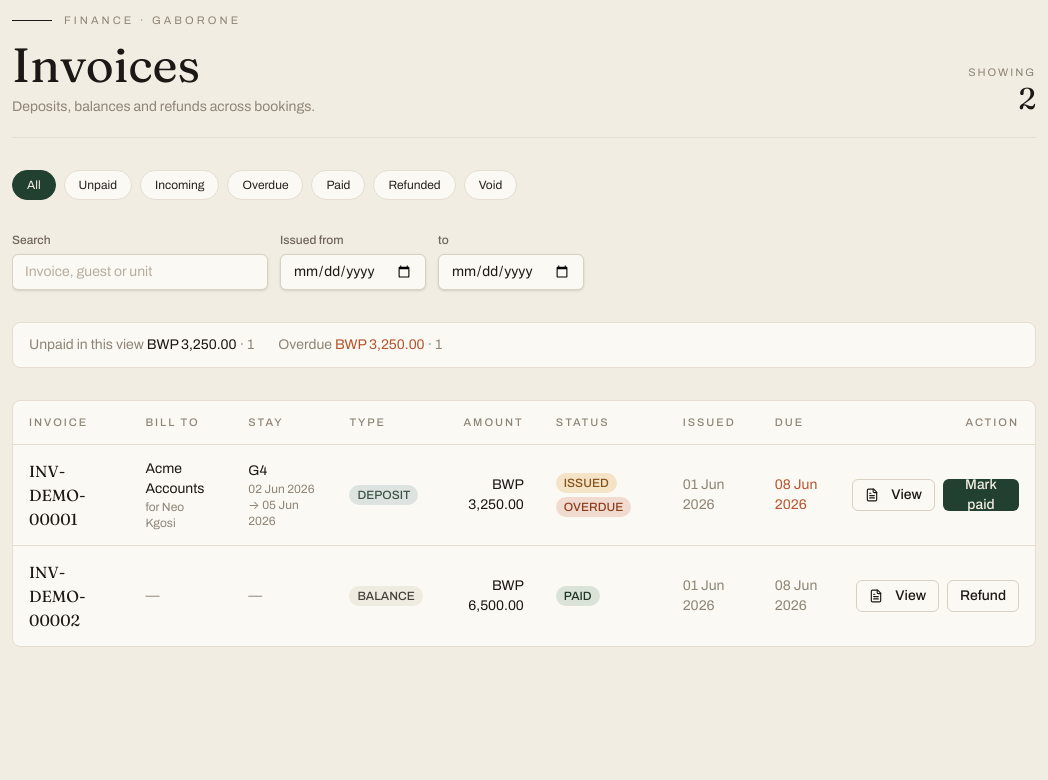
InvoicesPage › does not send a backwards date range, and says why
The image size is (1048, 780).
Type "2026-07-01" into the date field labelled "Issued from".
click(353, 272); type("2026-07-01")  # box x1=280 y1=254 x2=426 y2=290
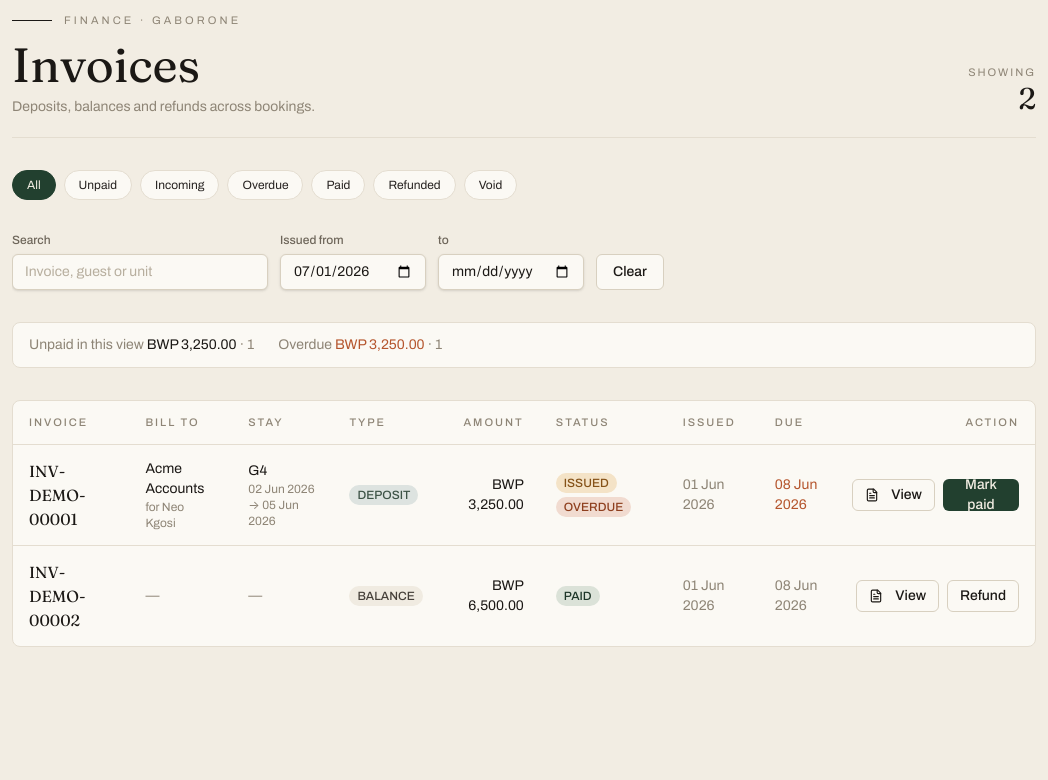
Type "2026-06-01" into the date field labelled "to".
click(511, 272); type("2026-06-01")  # box x1=438 y1=254 x2=584 y2=290
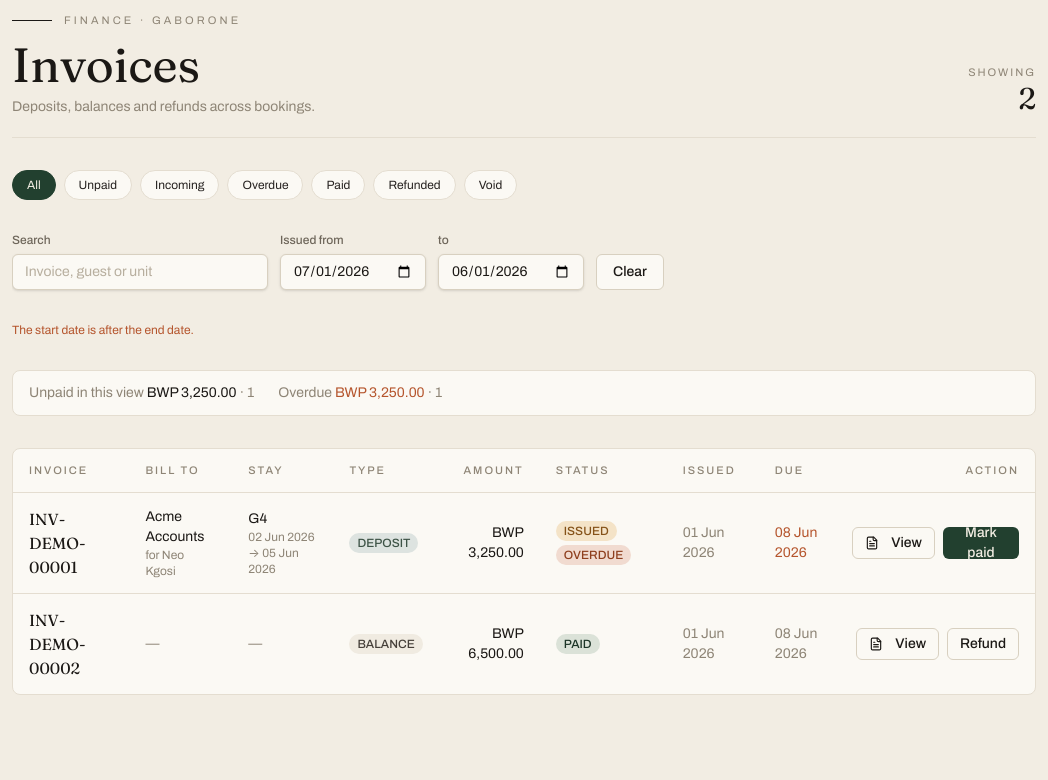
Expected: the message shows "start date is after the end date", x1=12 y1=322 x2=194 y2=336
